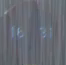No waiting: (5, 2, 60, 58)
